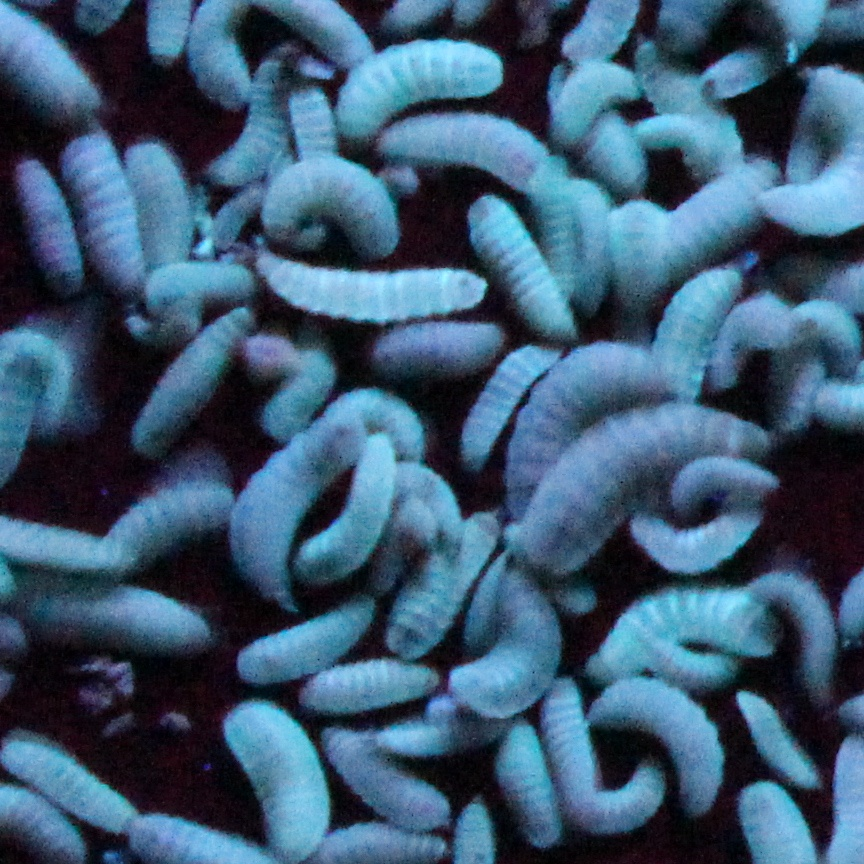larve: (502, 402, 782, 572), (225, 412, 368, 607), (586, 674, 734, 820), (254, 242, 491, 326), (133, 301, 256, 458), (335, 27, 511, 136), (287, 423, 397, 590), (388, 511, 507, 658), (58, 127, 151, 313), (465, 192, 580, 342), (250, 150, 404, 258), (369, 104, 556, 190), (451, 334, 571, 465), (228, 589, 377, 689), (751, 560, 853, 695), (120, 133, 201, 300), (527, 664, 608, 823), (640, 261, 728, 400), (618, 494, 758, 581), (6, 149, 85, 292), (730, 684, 825, 802), (618, 105, 751, 182), (297, 654, 435, 720), (549, 58, 641, 144), (661, 444, 780, 510), (774, 301, 858, 357)
